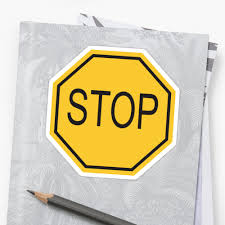Stop: (45, 40, 185, 178)
